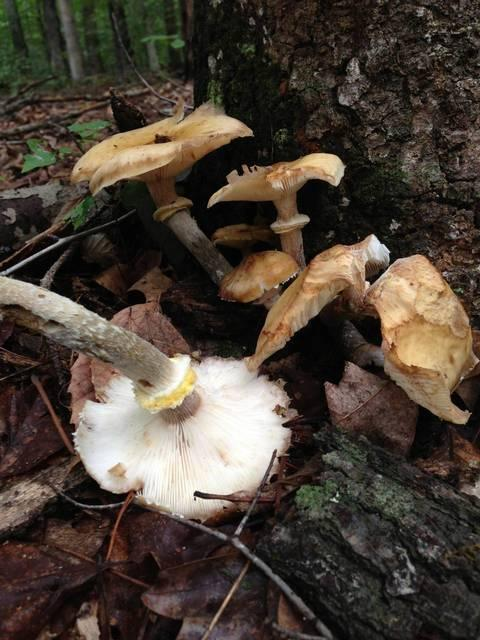Edible Mushroom: (70, 350, 295, 524), (69, 98, 254, 285), (243, 232, 390, 371), (362, 252, 478, 425), (206, 150, 346, 266)
